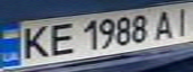1: (75, 17, 100, 52)
8: (130, 11, 154, 44), (115, 14, 136, 47)
9: (97, 16, 118, 51)
A: (151, 8, 178, 41)
E: (42, 19, 78, 57)
I: (169, 3, 193, 36)
K: (15, 22, 54, 61)
